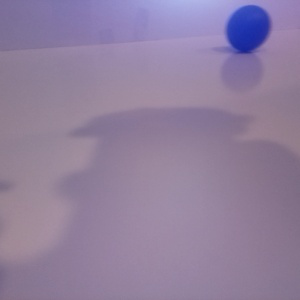dead_ball: (226, 5, 271, 52)
